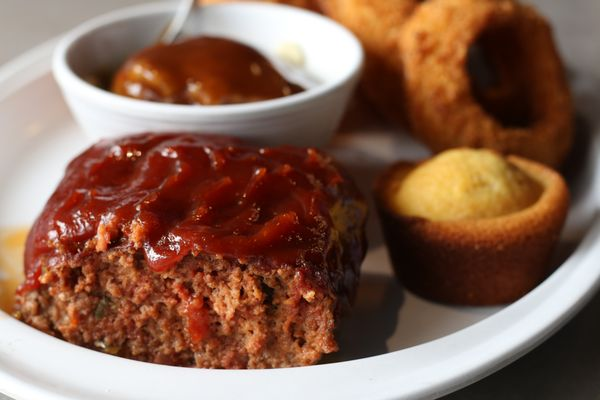sushi: (50, 2, 365, 147)
